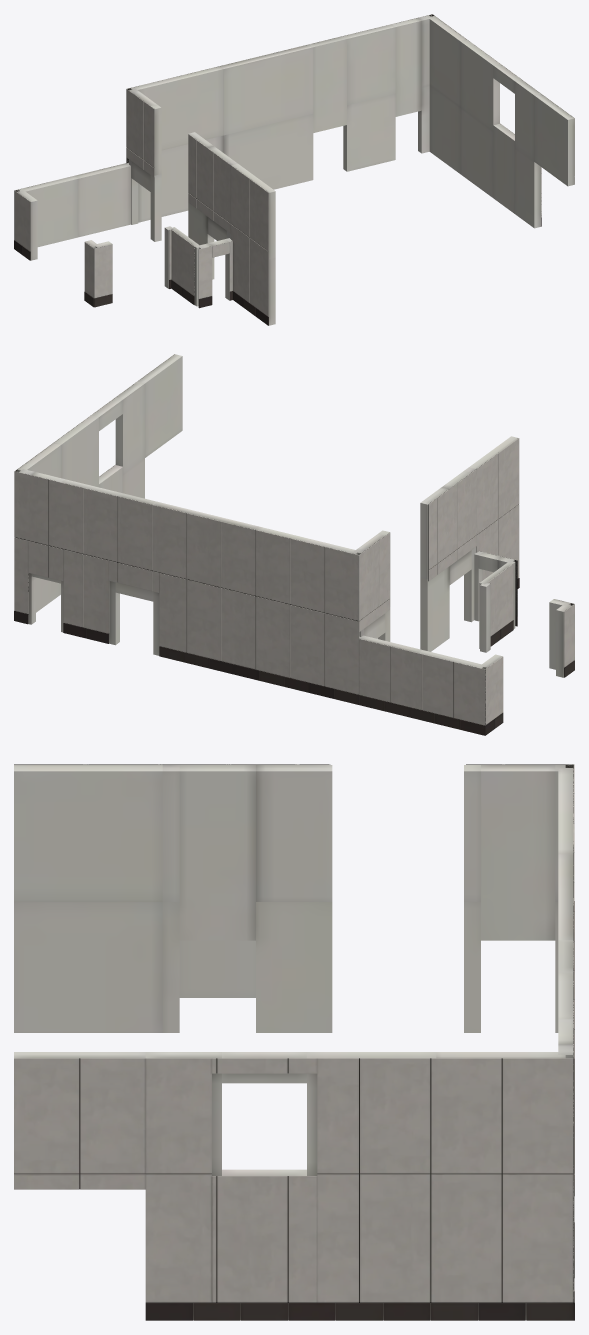
File: suite_walls.glb
3 renders of one model, top to bottom at view 1: azimuth 30°, elevation 25°; view 2: azimuth 150°, elevation 25°; view 3: azimuth 270°, elevation 25°, orthographic. The views are drawn at different scales.
Visible parts, largest first — view 1: suite_walls; view 2: suite_walls; view 3: suite_walls.
Part boxes in pixels (<box>): suite_walls: <box>14,14,574,325</box>; suite_walls: <box>14,354,574,735</box>; suite_walls: <box>14,764,574,1320</box>.
Bounding box in the file's own units: 22.43 × 6.8 × 13.22.
1 material, 1 textured.
